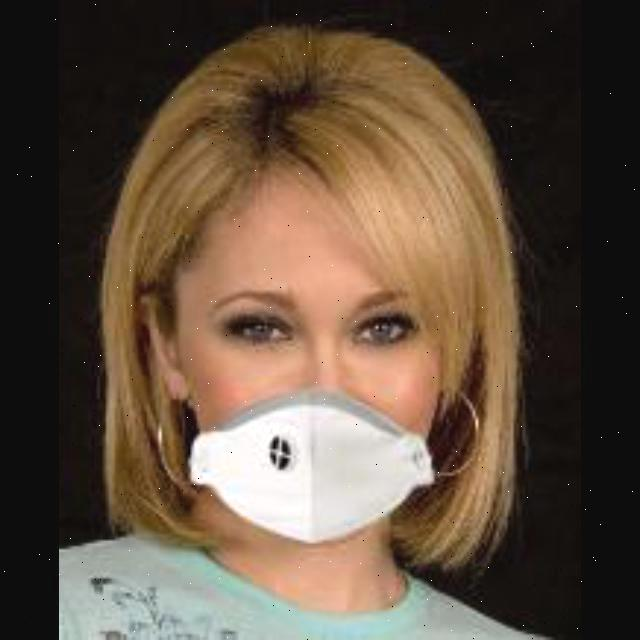suspicion: (119, 61, 483, 557)
